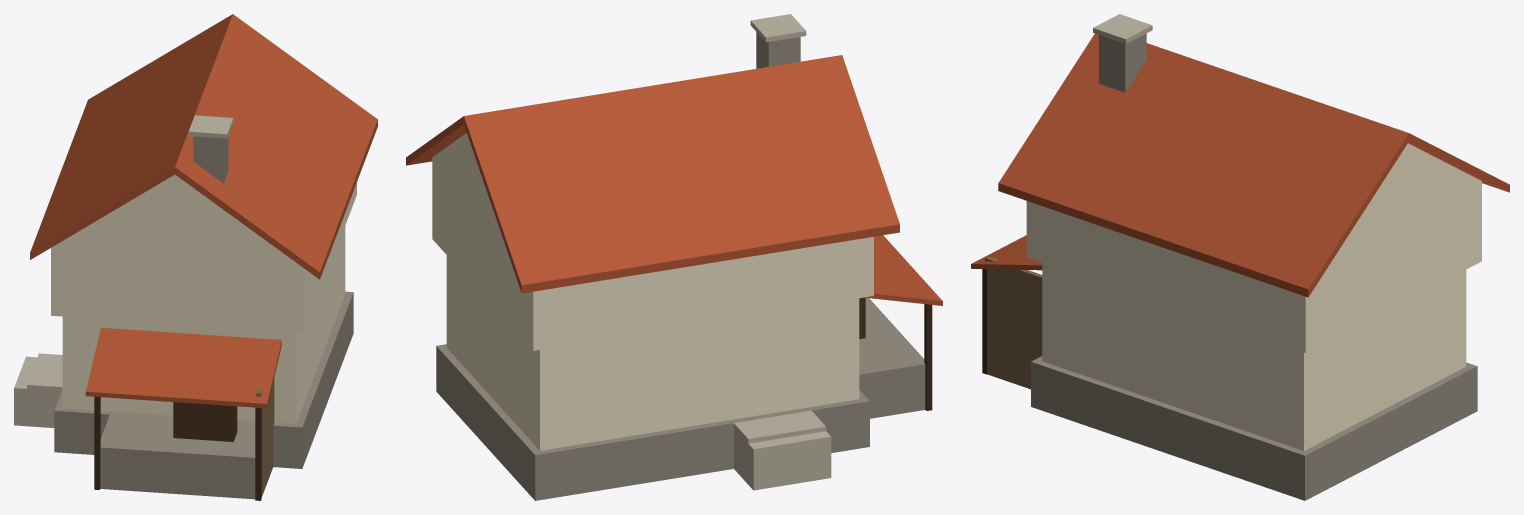
The model's file is SM_WillowPond_House7.fbx.
3 views of the same model, side by side, from view 1: azimuth 30°, elevation 25°; view 2: azimuth 150°, elevation 25°; view 3: azimuth 270°, elevation 25° (orthographic). The views are drawn at different scales.
Parts seen in each view (by area): view 1: SM_WillowPond_House7; view 2: SM_WillowPond_House7; view 3: SM_WillowPond_House7.
Boxes of the visible parts, x1=… form: SM_WillowPond_House7: x1=14, y1=14, x2=377, y2=500; SM_WillowPond_House7: x1=406, y1=14, x2=942, y2=500; SM_WillowPond_House7: x1=971, y1=14, x2=1509, y2=500.
Bounding box in the file's own units: 11.26 × 8.8 × 12.14.
